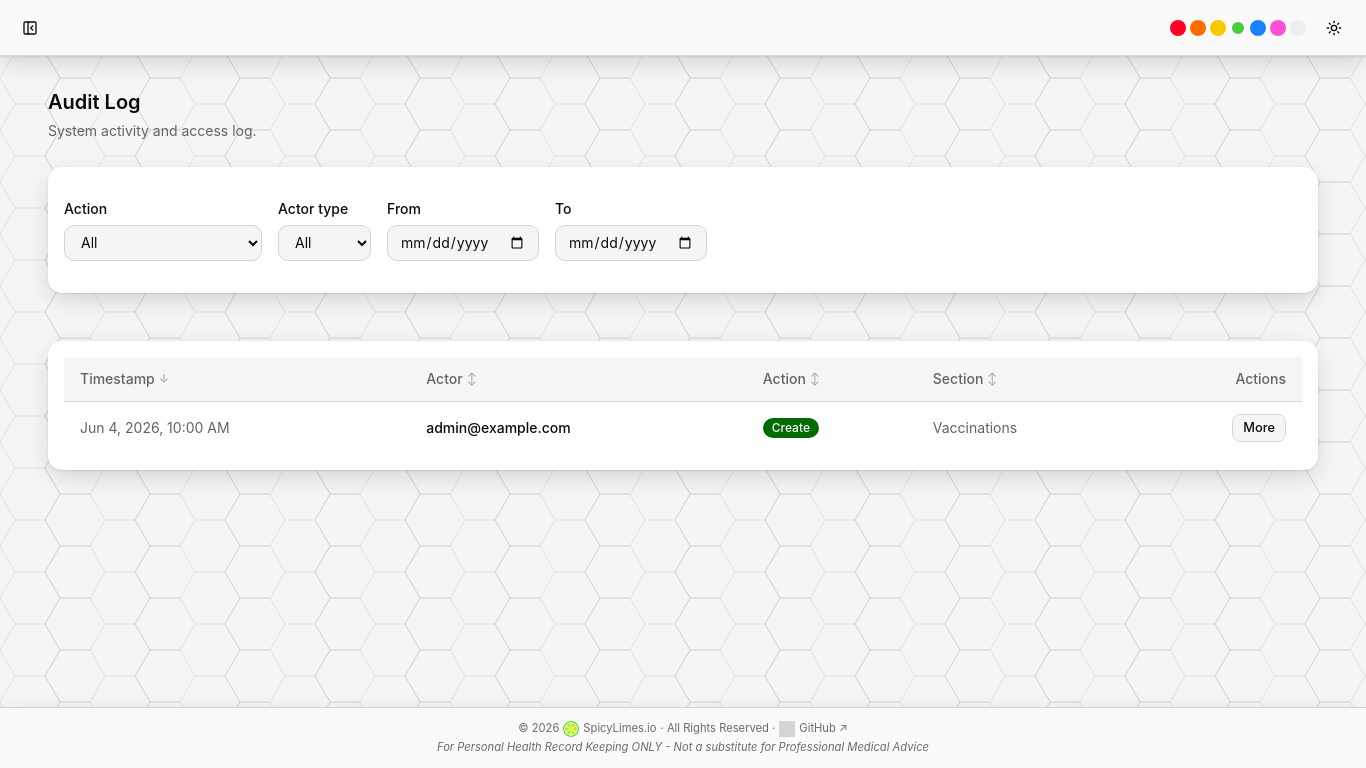
Test: AuditLogPage › omits the Response row entirely on non-AI actions
This screenshot has width=1366, height=768.
Step 1. Click the button with aria-label "more details" → (1259, 428), box [1232, 414, 1286, 442]
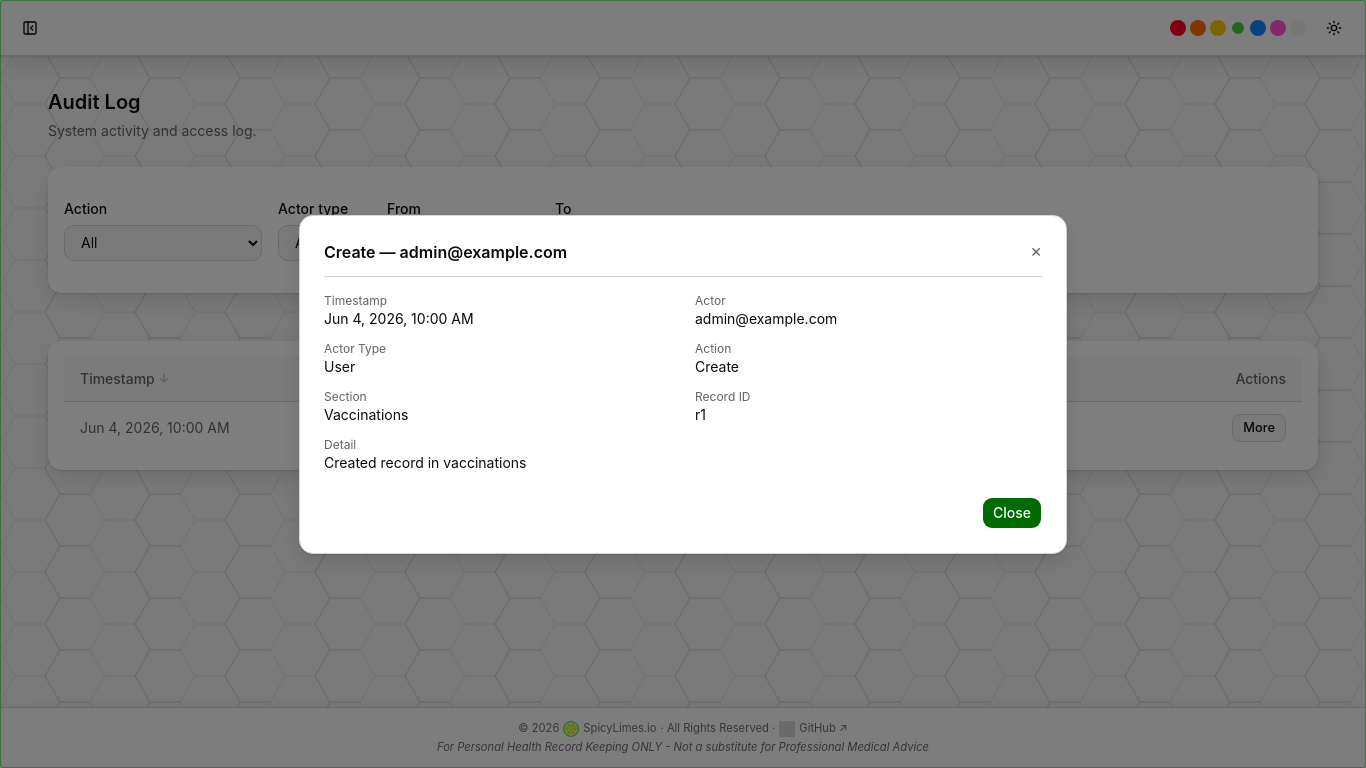
Expected: the dialog shows "Detail", [324, 436, 356, 452]
